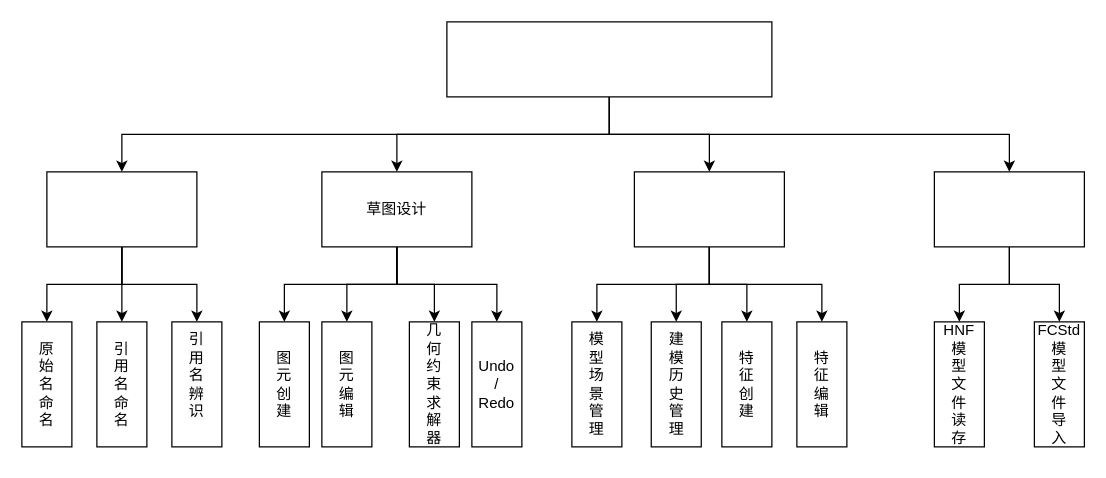
Some shapes in this 1106 by 478 pixel diagram are drawn without their labels. Each missing label, with the centre of its shape:
参数化特征造型: the point at 708,209
拓扑元素命名与辨识: the point at 121,209
支持拓扑元素命名与辨识机制的特征造型系统（HFMS系统）: the point at 609,59
模型文件管理: the point at 1008,209
